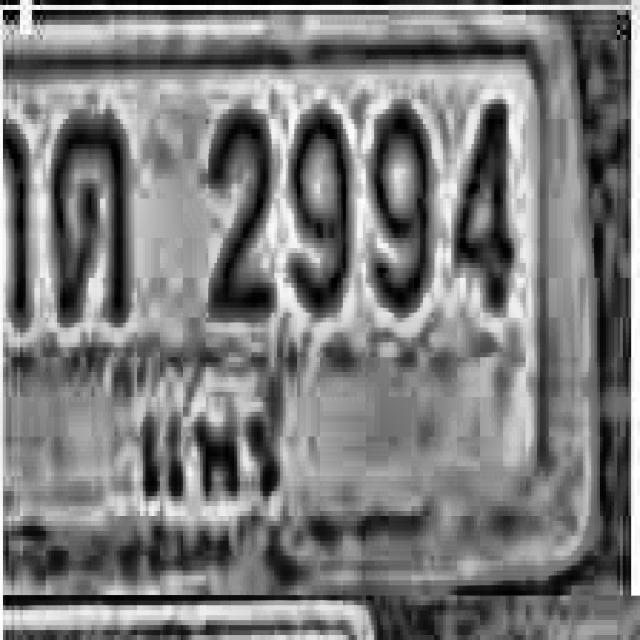license-plate: (0, 0, 598, 590)
